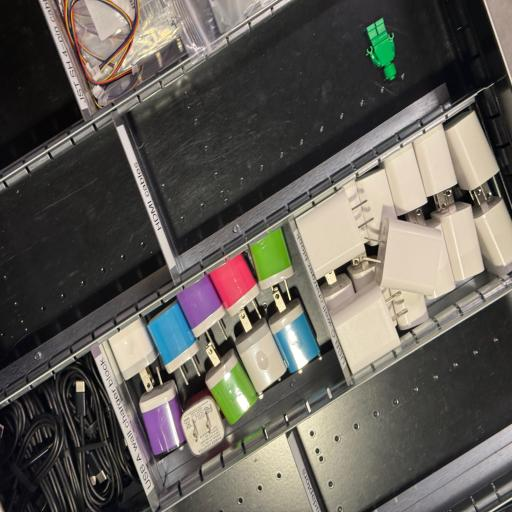Lego-Dude: (366, 18, 396, 80)
